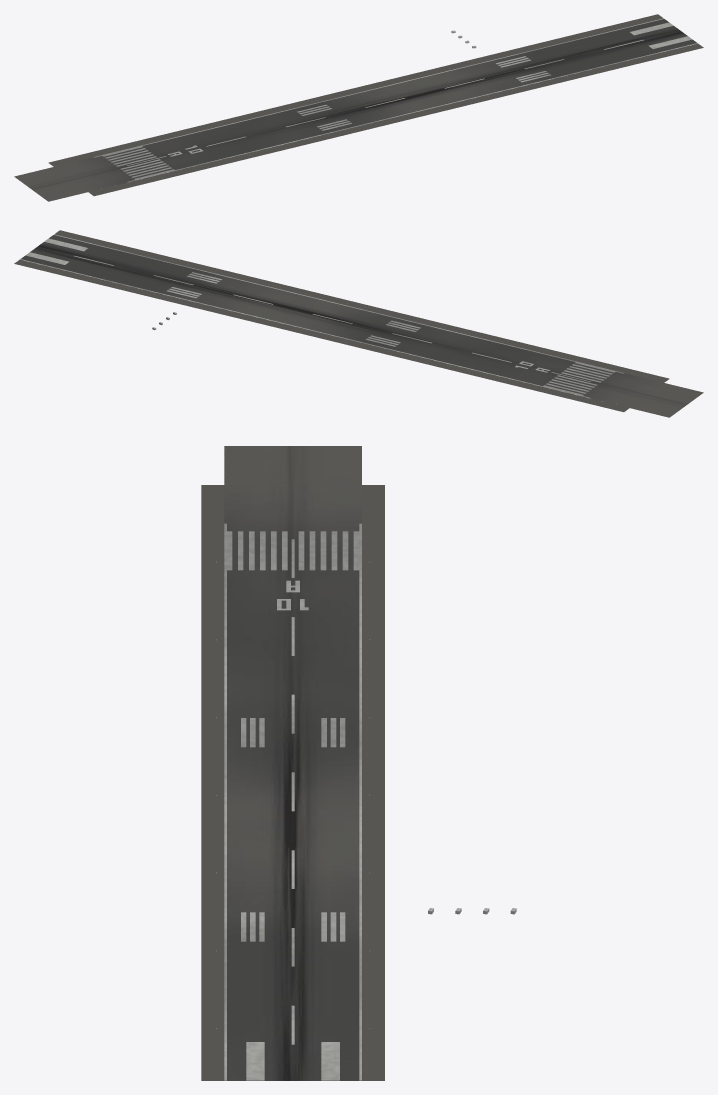
The model's file is sbgr_pista_secao.leve.glb.
3 renders of one model, top to bottom at view 1: azimuth 30°, elevation 25°; view 2: azimuth 150°, elevation 25°; view 3: azimuth 270°, elevation 25°, orthographic. The views are drawn at different scales.
Parts seen in each view (by area): view 1: sbgr_pista_secao; view 2: sbgr_pista_secao; view 3: sbgr_pista_secao.
Part boxes in pixels (bbox=[...]): sbgr_pista_secao: bbox=[14, 14, 703, 201]; sbgr_pista_secao: bbox=[14, 230, 703, 417]; sbgr_pista_secao: bbox=[201, 446, 516, 1080].
Bounding box in the file's own units: 490 × 1.13 × 103.
Materials: 5 (2 with a texture image).
